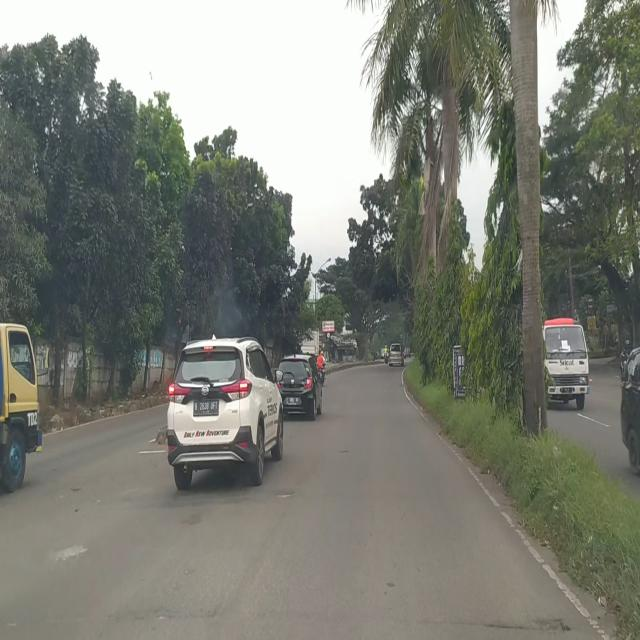Sewer Cover: (411, 613, 563, 632)
